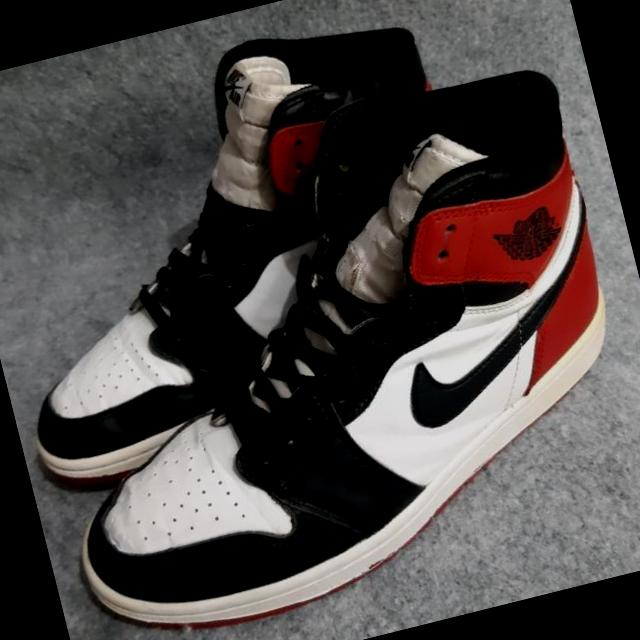nike_fake_jordan: (0, 58, 640, 640), (0, 0, 514, 509)
